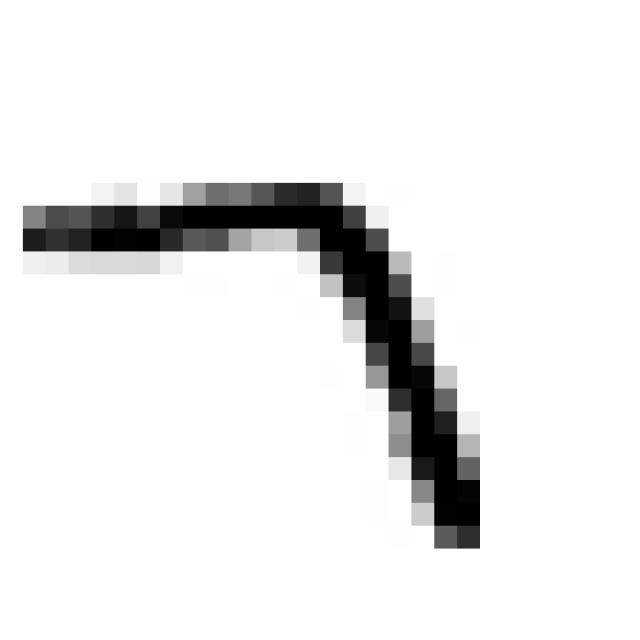6 -six-: (9, 162, 503, 576)
